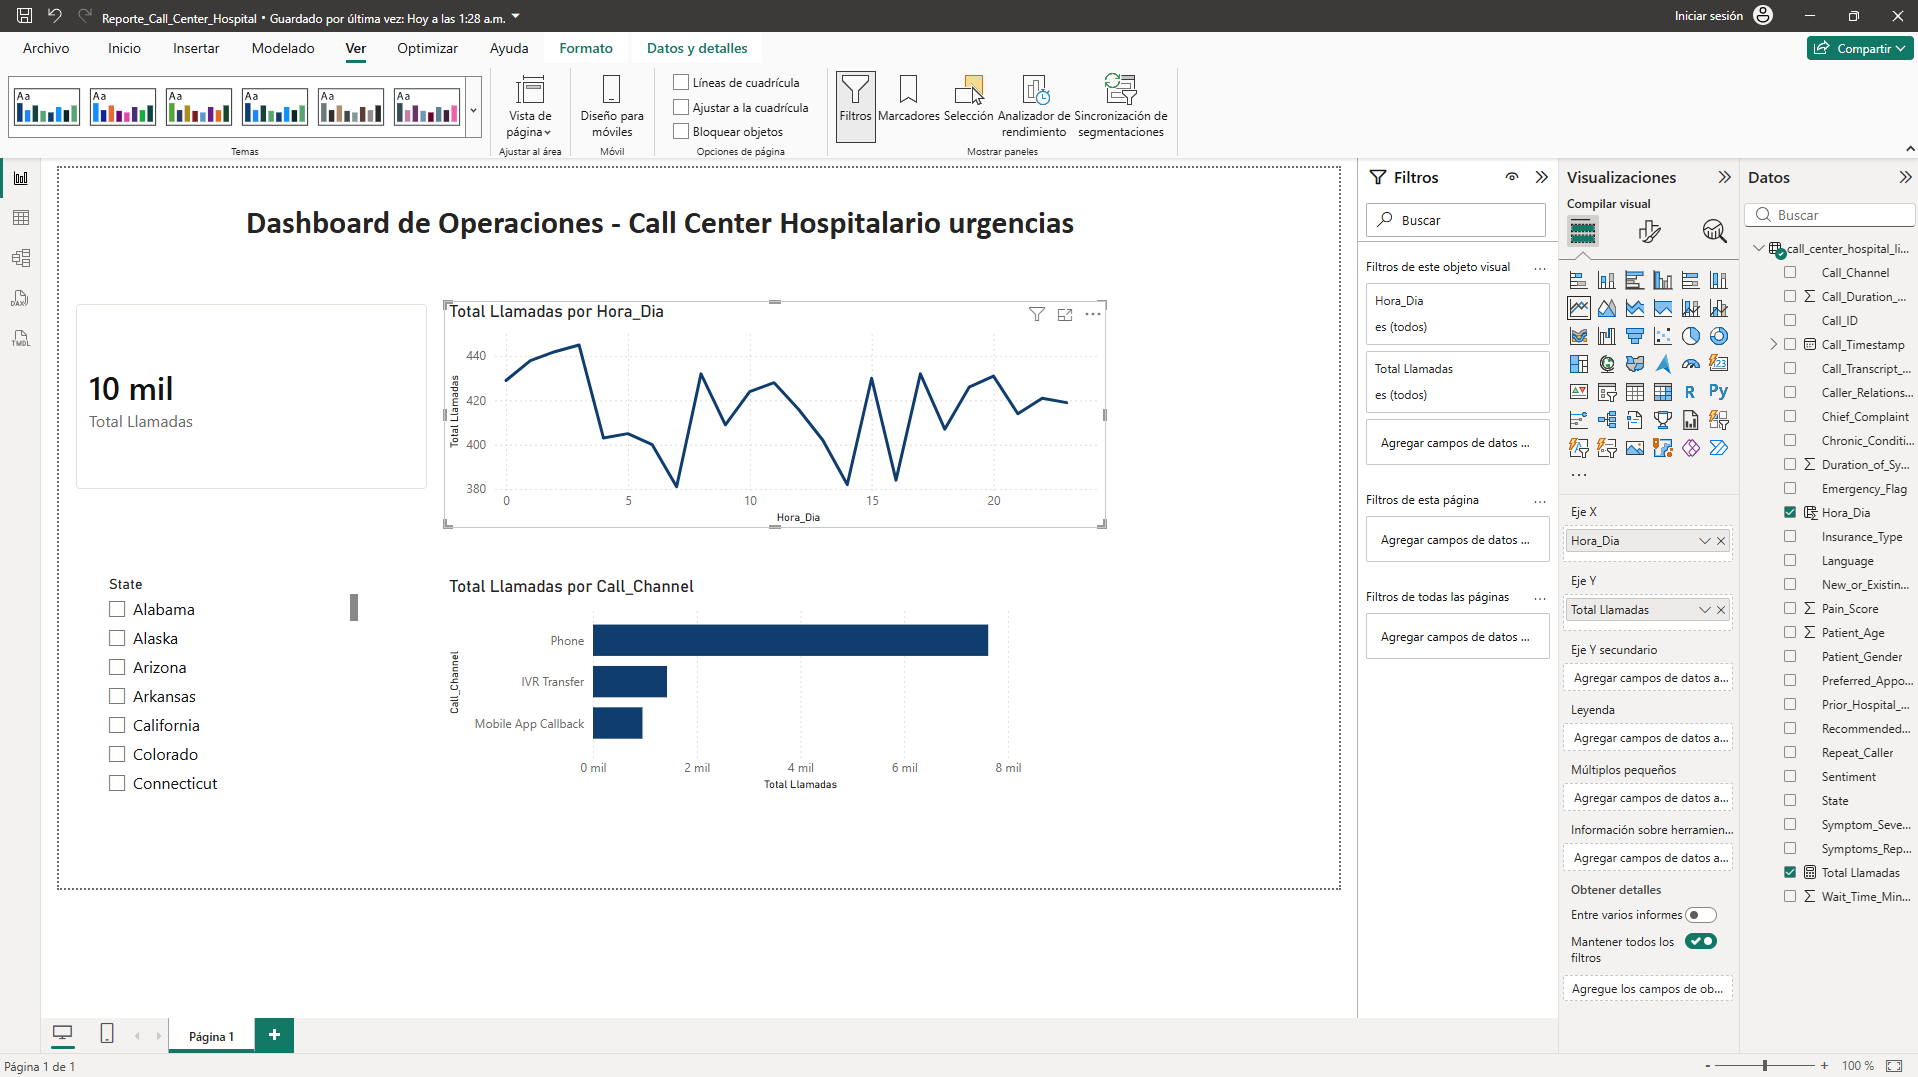

What the dashboard file says about the page in this screenshot:
{"tool":"powerbi","page":{"name":"Página 1","canvas":[1280,720],"ordinal":0},"visuals":[{"type":"lineChart","fields":{"Y":["call_center_hospital_limpio.Total Llamadas"],"Category":["call_center_hospital_limpio.Hora_Dia"]},"box":[385.2,133.3,661.4,226.6],"z":0},{"type":"clusteredBarChart","fields":{"Category":["call_center_hospital_limpio.Call_Channel"],"Y":["call_center_hospital_limpio.Total Llamadas"]},"box":[385.2,407.5,581.6,219.8],"z":1},{"type":"cardVisual","fields":{"Data":["call_center_hospital_limpio.Total Llamadas"]},"box":[0,118.7,385.2,218.8],"z":2},{"type":"slicer","fields":{"Values":["call_center_hospital_limpio.State"]},"box":[37,402.7,267.5,229.5],"z":3},{"type":"textbox","box":[181.9,30.2,957.1,56.4],"z":4}]}

Visuals, with their boxes in screenshot pixels (x1, y1, x2, y2):
lineChart - call_center_hospital_limpio.Total Llamadas x call_center_hospital_limpio.Hora_Dia: region(585, 184, 1598, 531)
clusteredBarChart - call_center_hospital_limpio.Call_Channel x call_center_hospital_limpio.Total Llamadas: region(585, 604, 1476, 941)
cardVisual - call_center_hospital_limpio.Total Llamadas: region(0, 162, 585, 497)
slicer - call_center_hospital_limpio.State: region(52, 597, 462, 949)
textbox: region(274, 26, 1740, 113)
